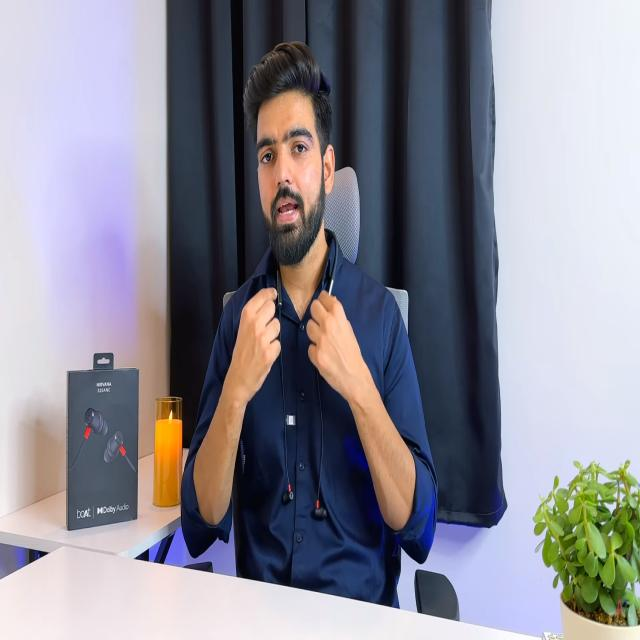Neckband: (276, 227, 339, 520)
